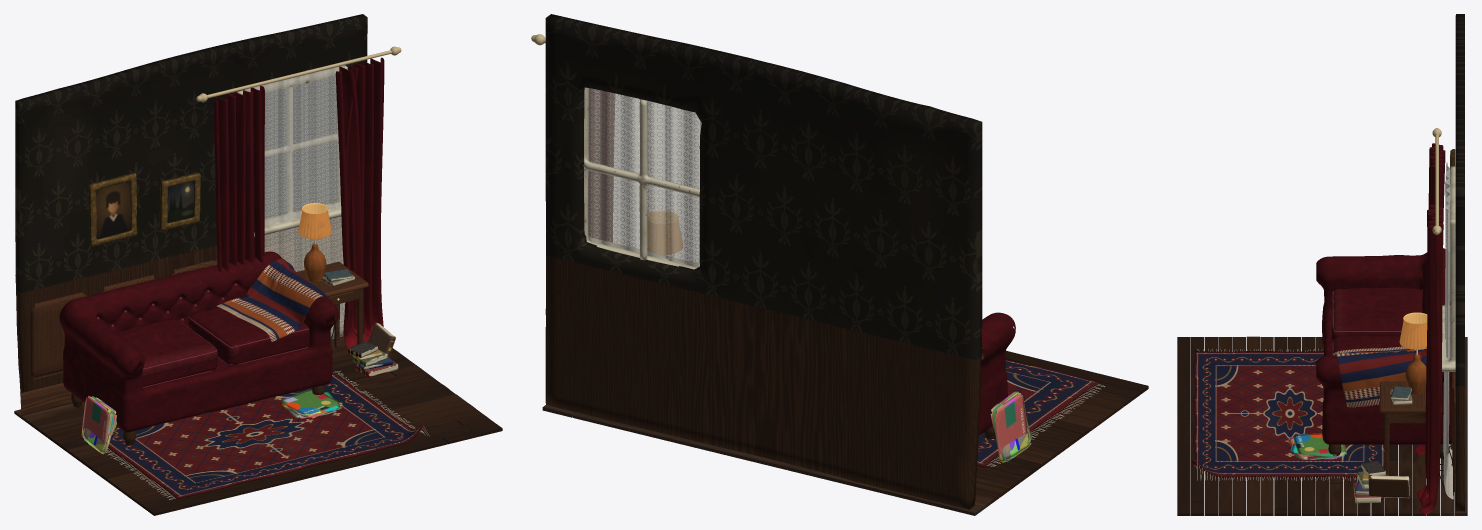
Rendered from env_lounge_section_review.glb.
3 renders of one model, left to right at view 1: azimuth 30°, elevation 25°; view 2: azimuth 150°, elevation 25°; view 3: azimuth 270°, elevation 25°, orthographic. The views are drawn at different scales.
Visible parts, largest first — view 1: Lounge_Wall, Lounge_SofaFrame, Lounge_Rug, Lounge_Floor, Lounge_Sheer, Lounge_CurtainR, Lounge_CurtainL, Lounge_Glass, Lounge_Throw, Lounge_Wainscot, Lounge_SofaCushion0, Lounge_SofaCushion1 (+13 smaller); view 2: Lounge_Wall, Lounge_Sheer, Lounge_Floor, Lounge_Rug, Lounge_Window, Lounge_CurtainR, Lounge_SofaFrame, Lounge_LPSleeves, Lounge_LampShade; view 3: Lounge_Rug, Lounge_Floor, Lounge_SofaFrame, Lounge_Wall, Lounge_CurtainR, Lounge_SofaCushion0, Lounge_Throw, Lounge_Books, Lounge_Sheer, Lounge_Table, Lounge_Window, Lounge_SofaCushion1 (+6 smaller).
Part boxes in pixels (x1=…): Lounge_Wall: x1=15, y1=14, x2=367, y2=403; Lounge_SofaFrame: x1=59, y1=251, x2=338, y2=432; Lounge_Rug: x1=108, y1=372, x2=424, y2=499; Lounge_Floor: x1=14, y1=337, x2=502, y2=515; Lounge_Sheer: x1=244, y1=65, x2=345, y2=339; Lounge_CurtainR: x1=335, y1=57, x2=384, y2=350; Lounge_CurtainL: x1=213, y1=85, x2=264, y2=272; Lounge_Glass: x1=265, y1=77, x2=335, y2=216; Lounge_Throw: x1=216, y1=258, x2=332, y2=341; Lounge_Wainscot: x1=30, y1=229, x2=344, y2=379; Lounge_SofaCushion0: x1=115, y1=319, x2=217, y2=386; Lounge_SofaCushion1: x1=188, y1=306, x2=309, y2=365; Lounge_Wall: x1=545, y1=14, x2=982, y2=509; Lounge_Sheer: x1=588, y1=88, x2=701, y2=267; Lounge_Floor: x1=542, y1=350, x2=1148, y2=515; Lounge_Rug: x1=977, y1=359, x2=1098, y2=467; Lounge_Window: x1=583, y1=87, x2=699, y2=269; Lounge_CurtainR: x1=588, y1=88, x2=614, y2=242; Lounge_SofaFrame: x1=979, y1=312, x2=1015, y2=435; Lounge_LPSleeves: x1=990, y1=391, x2=1031, y2=462; Lounge_LampShade: x1=648, y1=211, x2=682, y2=254; Lounge_Rug: x1=1192, y1=351, x2=1384, y2=477; Lounge_Floor: x1=1177, y1=336, x2=1467, y2=515; Lounge_SofaFrame: x1=1316, y1=248, x2=1452, y2=444; Lounge_Wall: x1=1455, y1=14, x2=1464, y2=511; Lounge_CurtainR: x1=1416, y1=204, x2=1443, y2=515; Lounge_SofaCushion0: x1=1331, y1=287, x2=1422, y2=342; Lounge_Throw: x1=1332, y1=346, x2=1426, y2=407; Lounge_Books: x1=1353, y1=386, x2=1412, y2=503; Lounge_Sheer: x1=1443, y1=162, x2=1453, y2=499; Lounge_Table: x1=1379, y1=381, x2=1441, y2=475; Lounge_Window: x1=1442, y1=166, x2=1455, y2=371; Lounge_SofaCushion1: x1=1331, y1=336, x2=1405, y2=354.
Bounding box in the file's own units: 2.88 × 2.36 × 1.88.
Materials: 57 (50 with a texture image).
